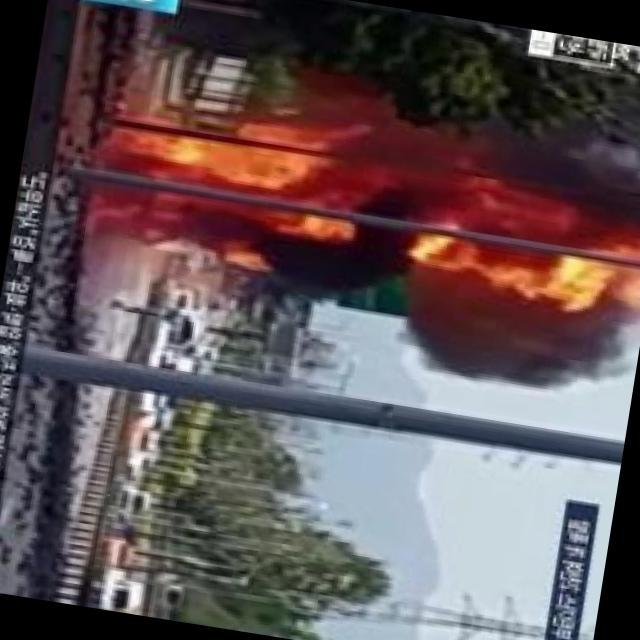Fire: (101, 90, 390, 247), (419, 174, 640, 321)
